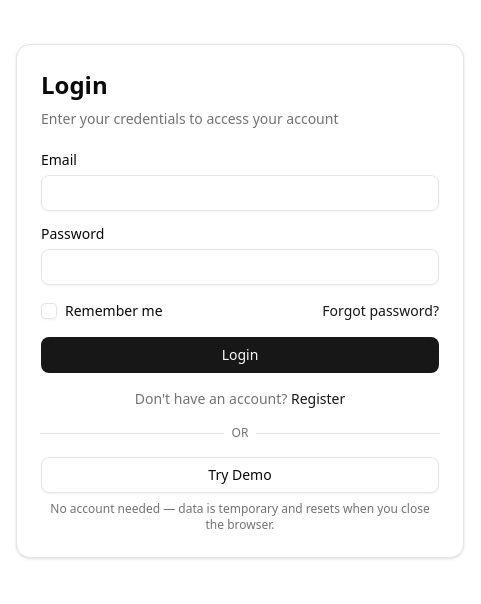
Test case: LoginPage › shows validation errors when submitting empty form
The width and height of the screenshot is (481, 604).
Click the button "Login".
click(240, 355)  # box [41, 337, 439, 373]
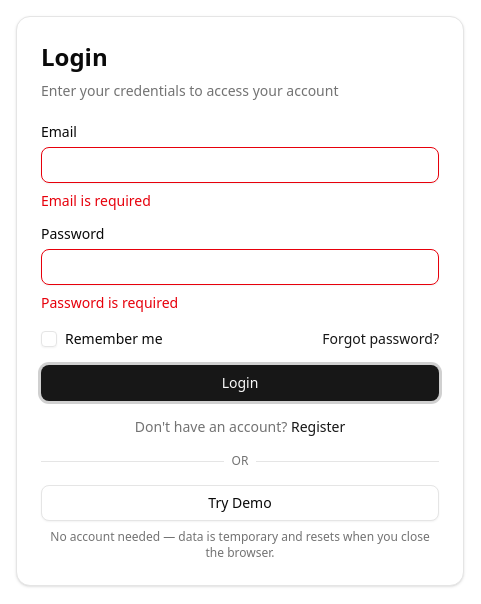
Check: the text "Email is required" is shown, box [41, 191, 151, 210]
Check: the text "Password is required" is shown, box [41, 293, 178, 312]
